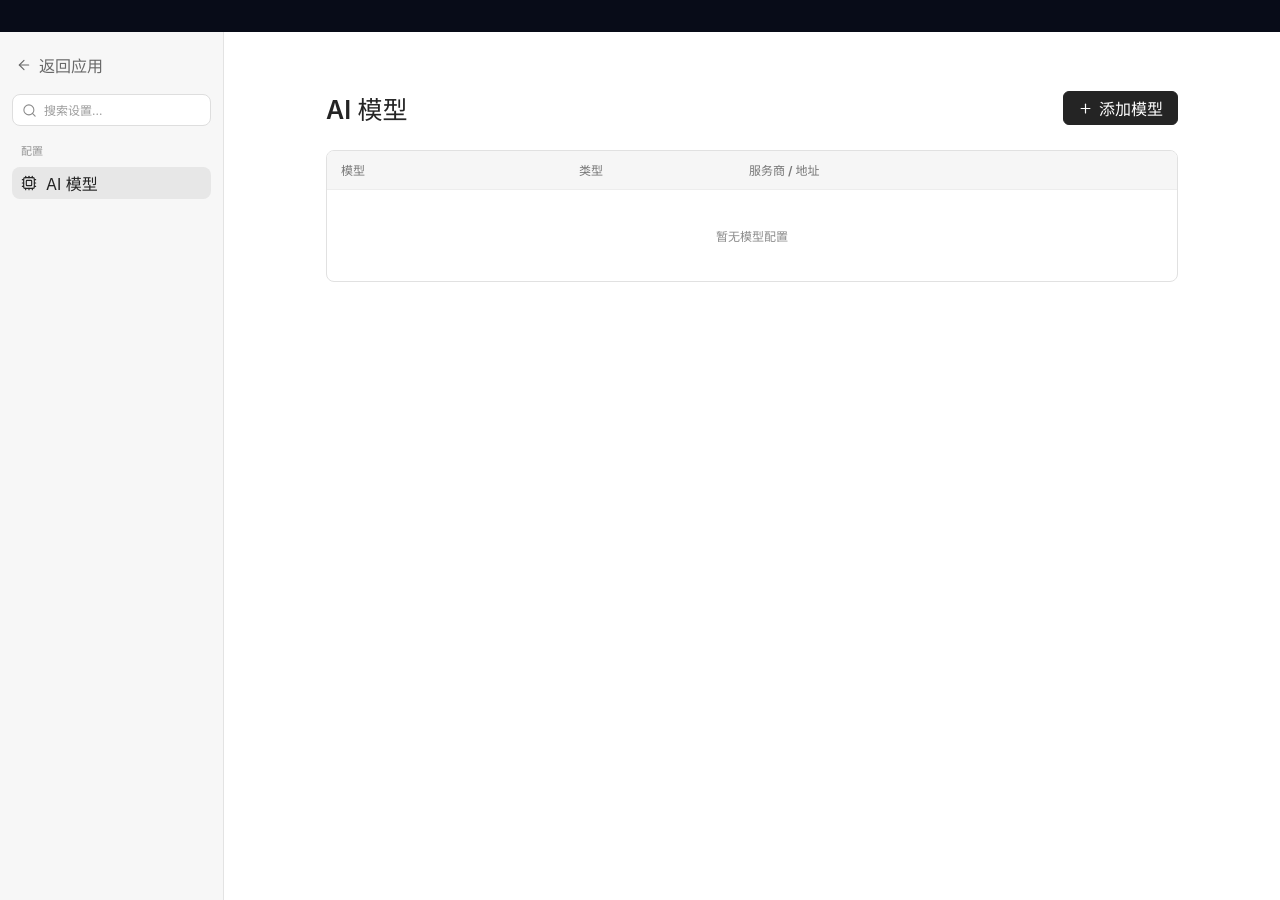
Test: SettingsView model management › shows Main save errors inside the dialog and preserves the current fields
Click the button "添加模型". click: (1120, 108)
box: [1063,91,1178,125]
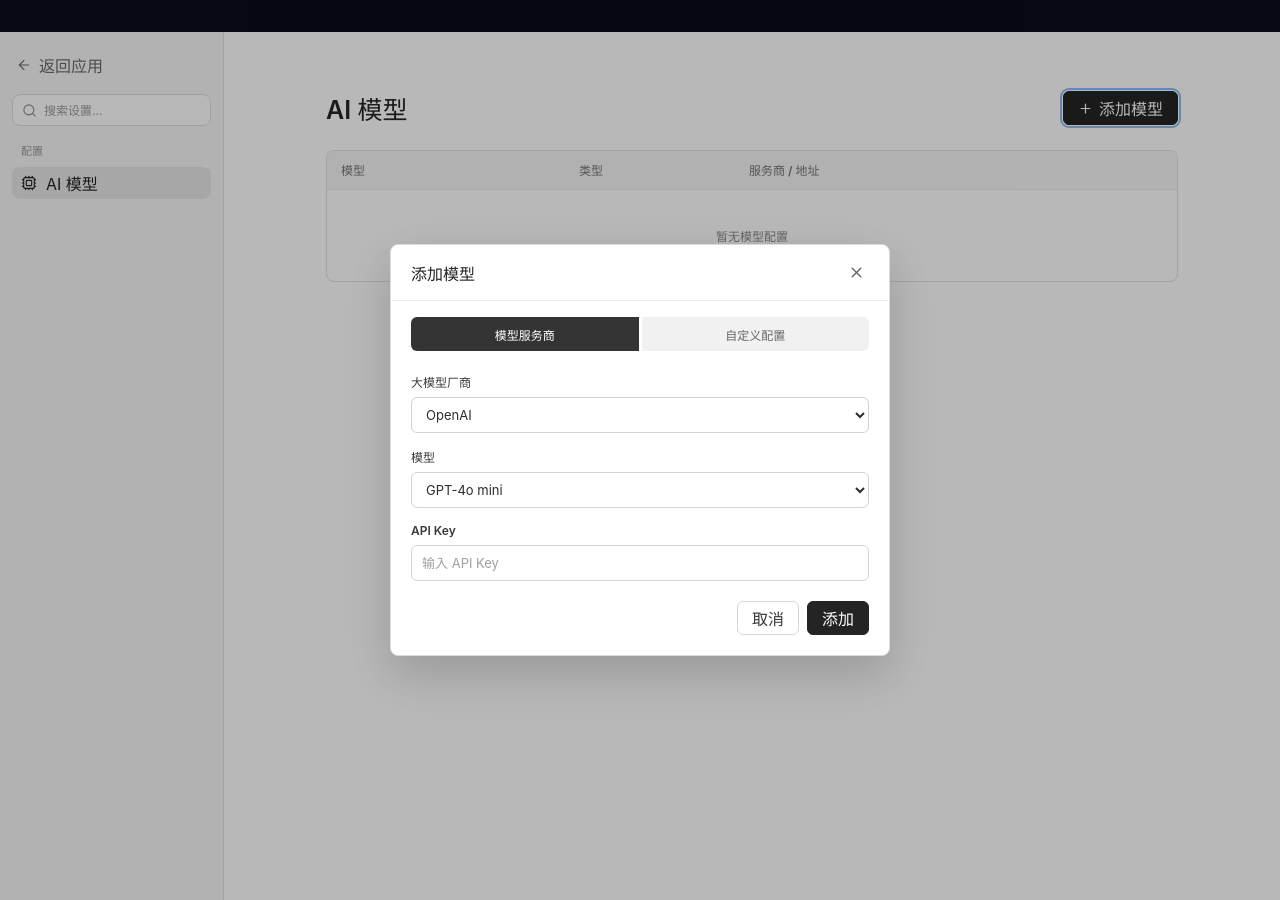
Click the button "添加". click: (838, 618)
box: [807,601,869,635]
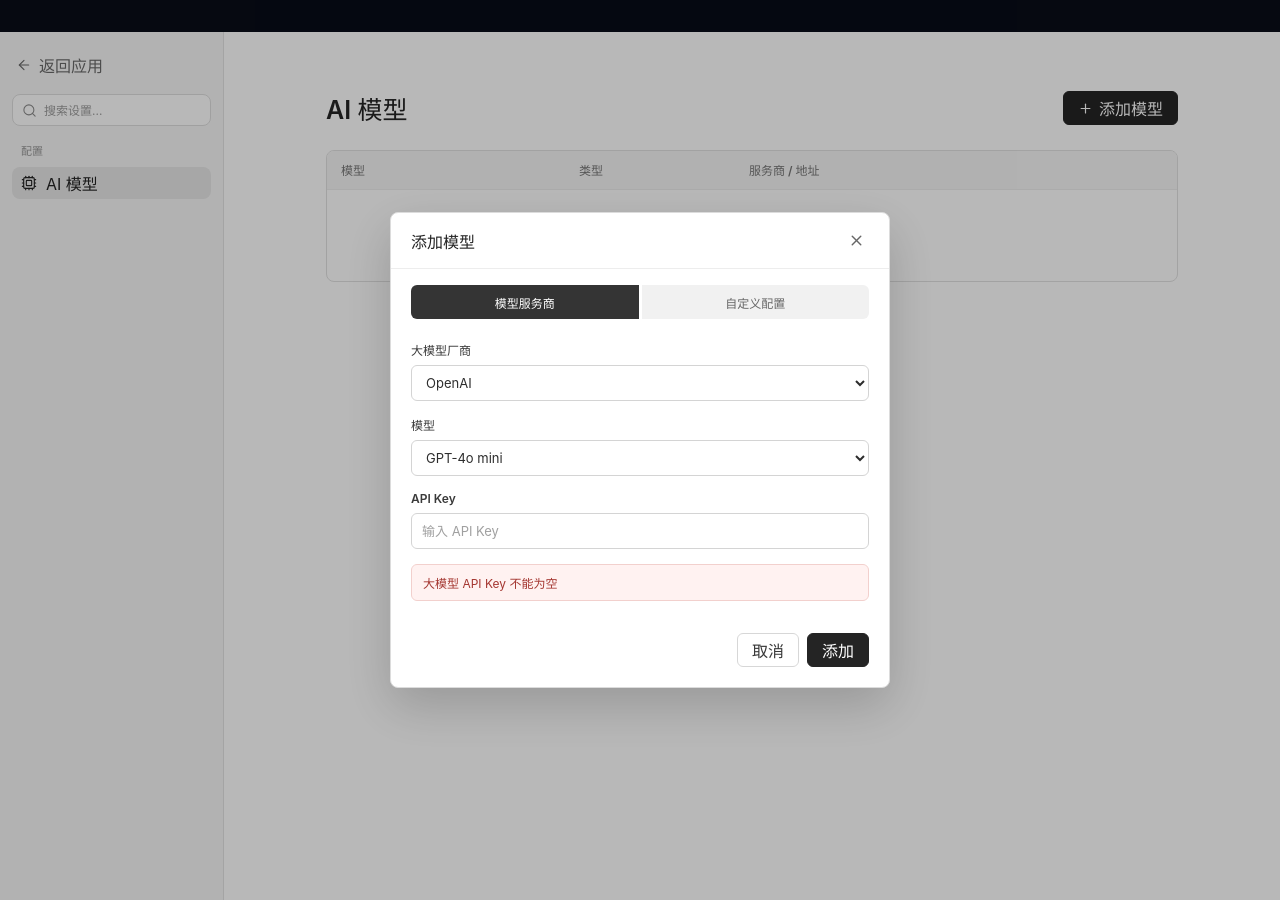
expect the dropdown labelled "大模型厂商" shows "OpenAI": met, box [411,365,869,401]
expect the dropdown labelled "模型" shows "GPT-4o mini": met, box [411,440,869,476]
expect the message reads "大模型 API Key 不能为空": met, box [423,576,557,591]
Click the button named "关闭". click: (856, 240)
box: [841,226,871,256]
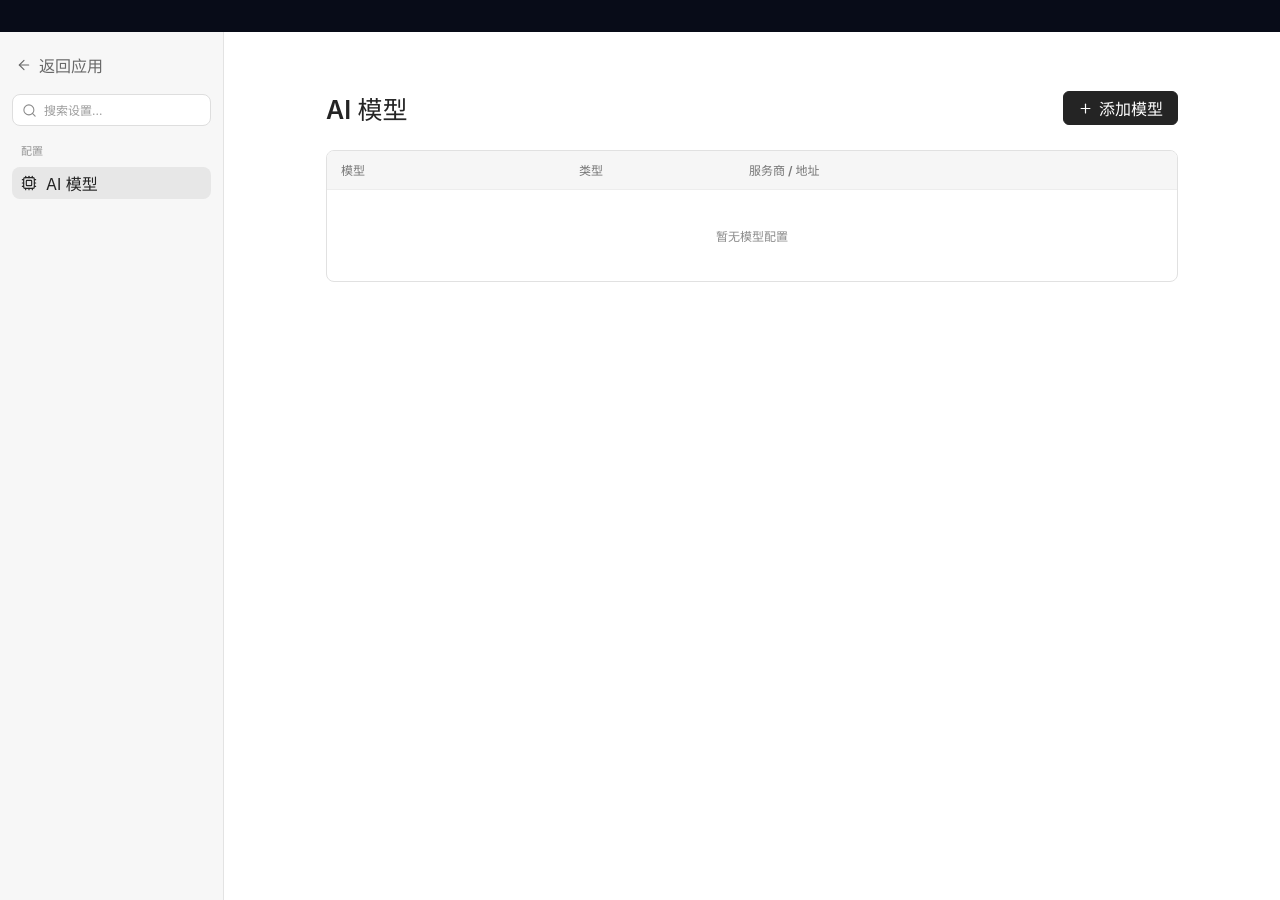
expect the message "大模型 API Key 不能为空" is gone: met
